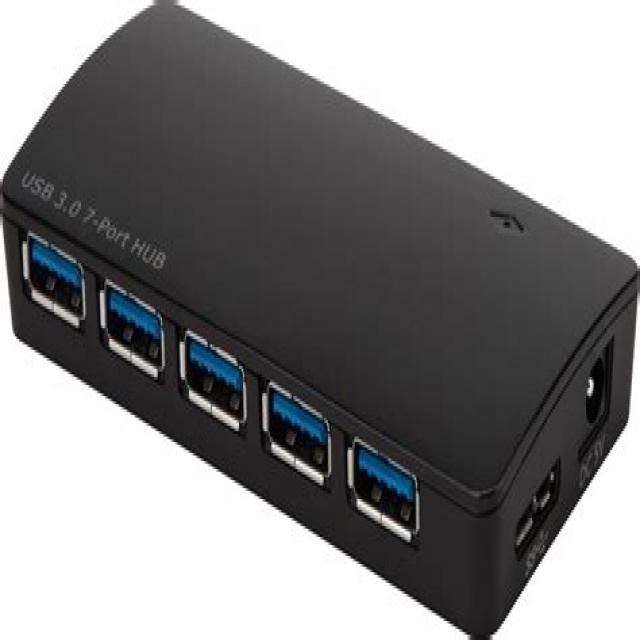usb port: (344, 423, 423, 548), (172, 312, 248, 434), (256, 374, 334, 483), (96, 280, 166, 382), (23, 225, 86, 326)
